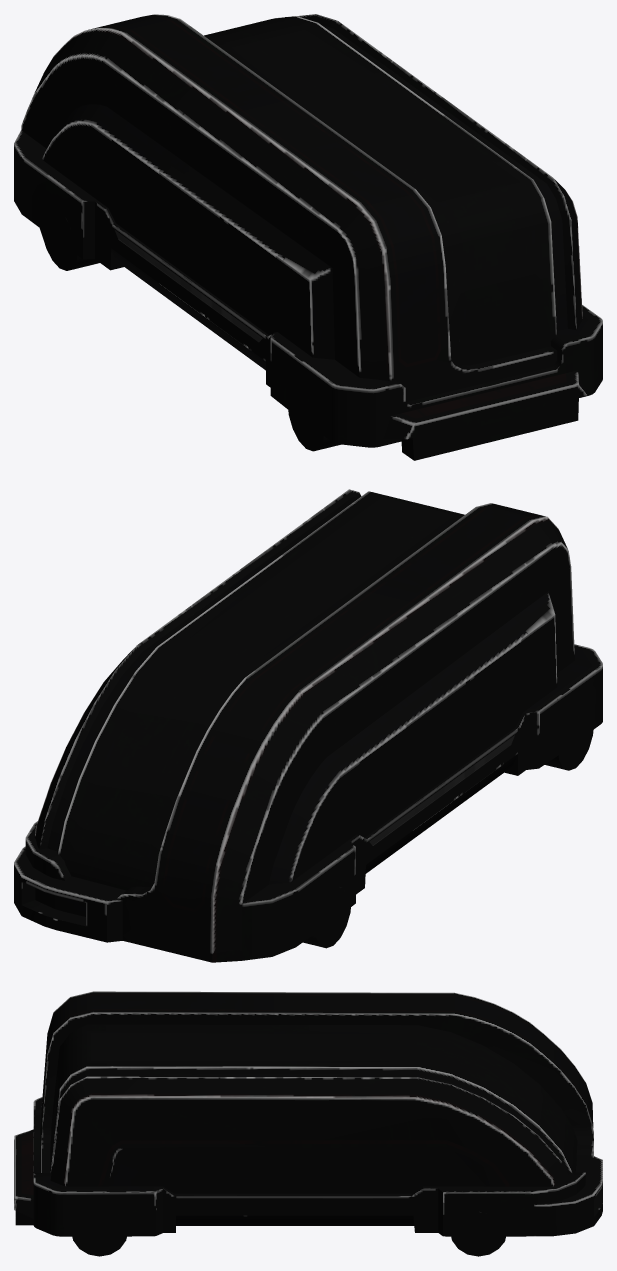
The model's file is propBus.glb.
The picture shows the model from 3 angles, top to bottom: view 1: azimuth 30°, elevation 25°; view 2: azimuth 150°, elevation 25°; view 3: azimuth 270°, elevation 25°; orthographic projection. The views are drawn at different scales.
Parts seen in each view (by area): view 1: propBus; view 2: propBus; view 3: propBus.
Part boxes in pixels (x1,y1,x2,y2): propBus: (14,14,602,460); propBus: (14,489,602,962); propBus: (14,991,602,1256).
Bounding box in the file's own units: 3.75 × 3.15 × 9.24.
1 material, 1 textured.
